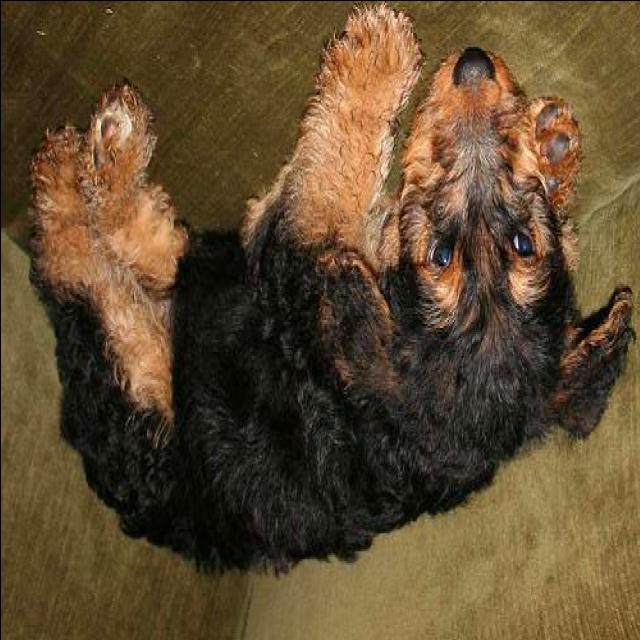airedale: (26, 4, 636, 580)
